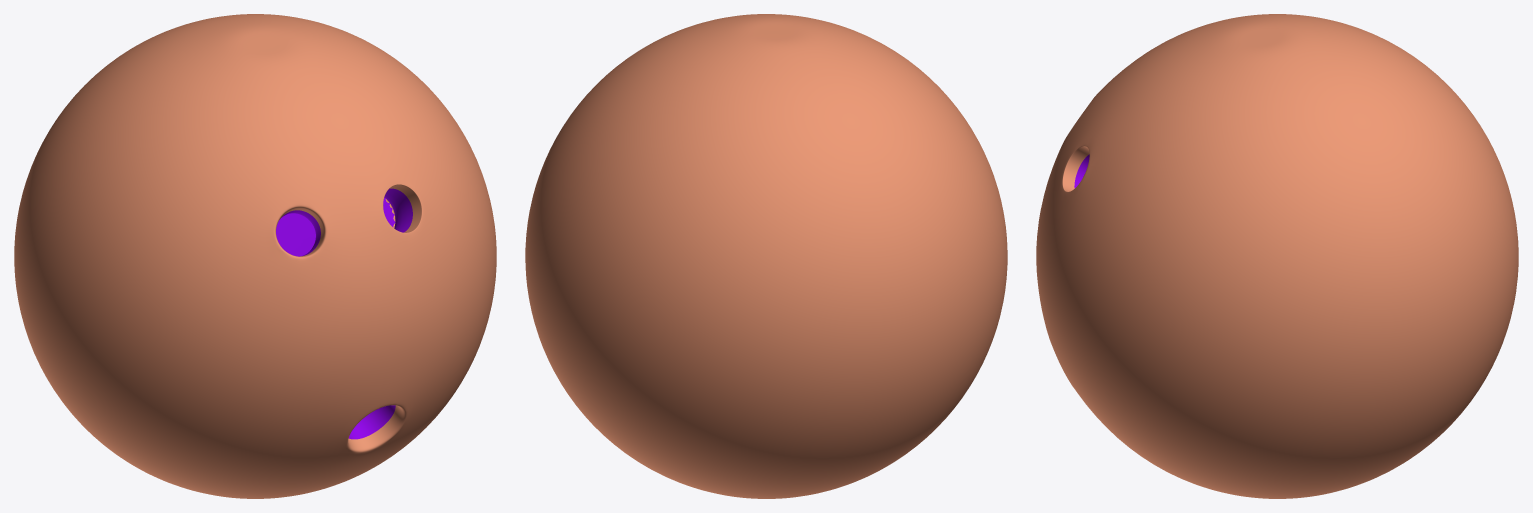
File: FeelStrikeBall.fbx
3 renders of one model, left to right at view 1: azimuth 30°, elevation 25°; view 2: azimuth 150°, elevation 25°; view 3: azimuth 270°, elevation 25°, orthographic.
Visible parts, largest first — view 1: Sphere.001; view 2: Sphere.001; view 3: Sphere.001.
Boxes of the visible parts, x1,y1,x2,y2 form: Sphere.001: [14, 14, 496, 498]; Sphere.001: [525, 14, 1007, 498]; Sphere.001: [1036, 14, 1518, 498].
Size of the model in its own units: 197 by 199 by 197.
